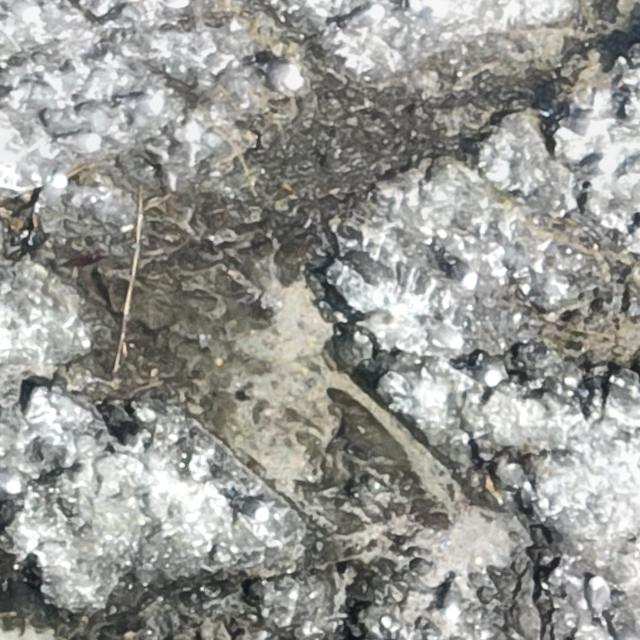umineko: (333, 2, 390, 34), (112, 88, 171, 117), (468, 361, 505, 391), (429, 316, 462, 347), (60, 134, 104, 154), (588, 577, 606, 612), (446, 259, 474, 281), (236, 497, 266, 516), (575, 157, 608, 173)
